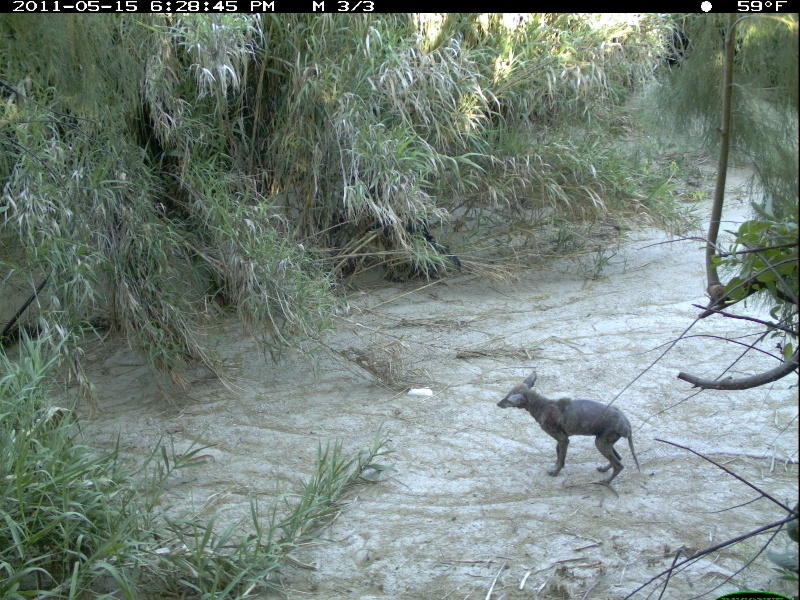coyote: (500, 374, 647, 490)
